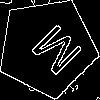M: (22, 22, 85, 85)
